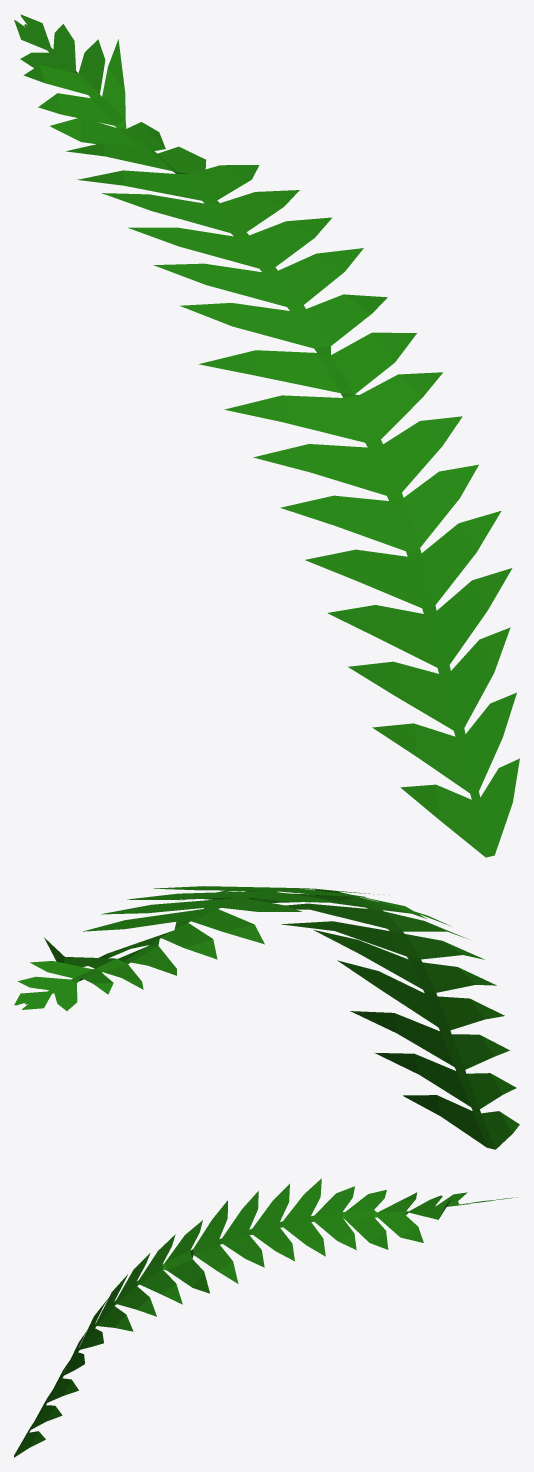
Rendered from Jungle_fern_leaf.fbx.
The picture shows the model from 3 angles, top to bottom: view 1: azimuth 30°, elevation 25°; view 2: azimuth 150°, elevation 25°; view 3: azimuth 270°, elevation 25°; orthographic projection. The views are drawn at different scales.
Parts seen in each view (by area): view 1: Plane.001; view 2: Plane.001; view 3: Plane.001.
Part boxes in pixels (bbox=[...]): Plane.001: bbox=[14, 14, 519, 857]; Plane.001: bbox=[14, 886, 519, 1149]; Plane.001: bbox=[14, 1178, 517, 1457].
Bounding box in the file's own units: 0.1982 × 0.4235 × 0.7223.
